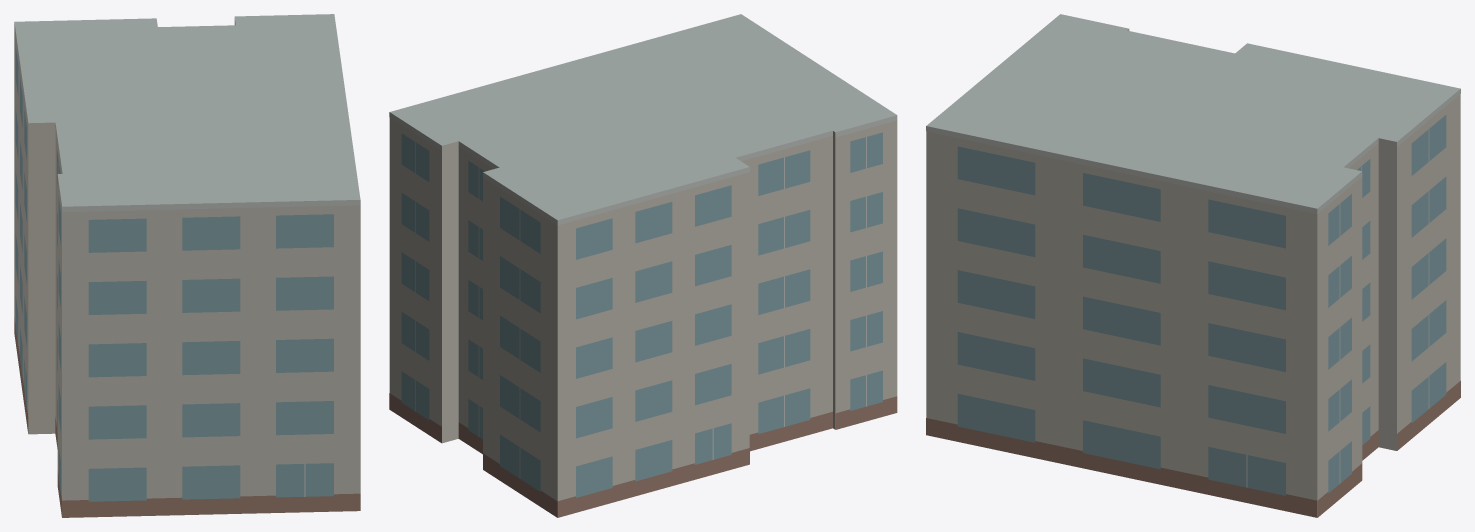
Rendered from survey-upis-32654273.glb.
3 views of the same model, side by side, from view 1: azimuth 30°, elevation 25°; view 2: azimuth 150°, elevation 25°; view 3: azimuth 270°, elevation 25° (orthographic). The views are drawn at different scales.
Visible parts, largest first — view 1: survey-upis-32654273.tmp; view 2: survey-upis-32654273.tmp; view 3: survey-upis-32654273.tmp.
Boxes of the visible parts, x1,y1,x2,y2 form: survey-upis-32654273.tmp: [14, 14, 360, 517]; survey-upis-32654273.tmp: [389, 14, 897, 517]; survey-upis-32654273.tmp: [926, 14, 1460, 517].
Bounding box in the file's own units: 18.79 × 13.9 × 21.79.
